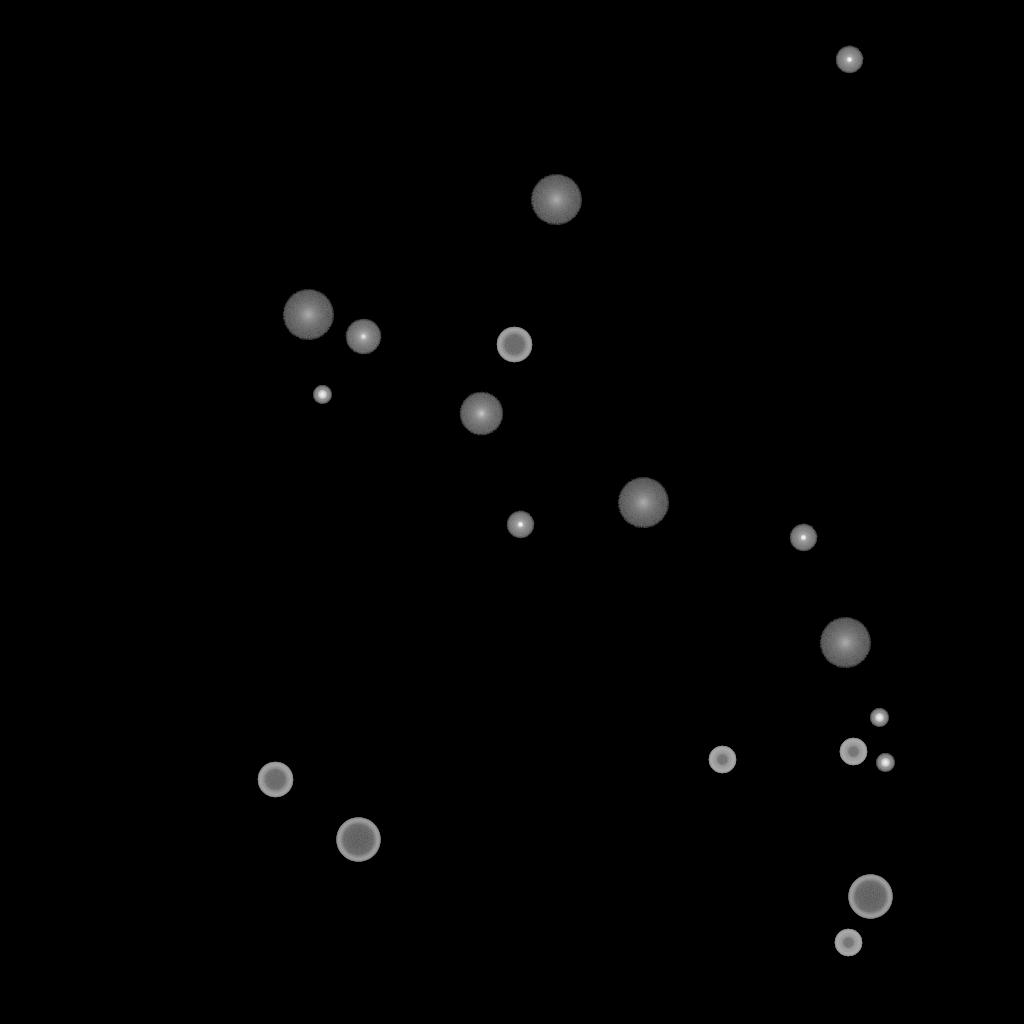depth:-10: (835, 46, 863, 74), (506, 511, 534, 539), (789, 524, 817, 552)
depth:-20: (870, 709, 888, 727), (876, 754, 894, 772), (313, 386, 331, 404)
depth:-50: (839, 738, 867, 766), (834, 929, 862, 957), (708, 746, 736, 774)
depth:-60: (496, 327, 532, 363), (257, 762, 293, 798)
depth:-70: (848, 875, 892, 919), (336, 818, 380, 862)
depth:0: (345, 319, 381, 355)
depth:10: (459, 392, 503, 436)
depth:20: (819, 618, 871, 668), (282, 290, 334, 340), (530, 175, 582, 225), (617, 478, 669, 528)
